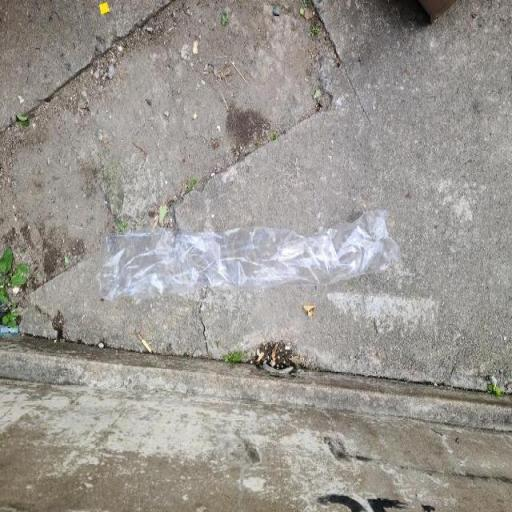plastic-bag: (100, 204, 404, 302)
